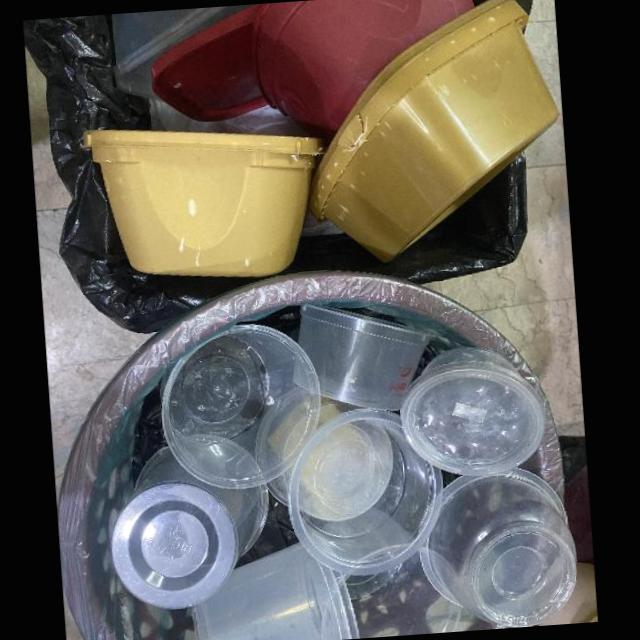hop_nhua: (306, 0, 558, 266), (82, 130, 322, 278), (266, 395, 443, 576), (251, 0, 475, 130), (157, 324, 321, 491), (419, 468, 580, 628), (109, 445, 266, 609), (402, 347, 548, 478), (192, 543, 360, 640), (298, 303, 436, 410), (111, 4, 256, 102), (347, 550, 460, 638)
